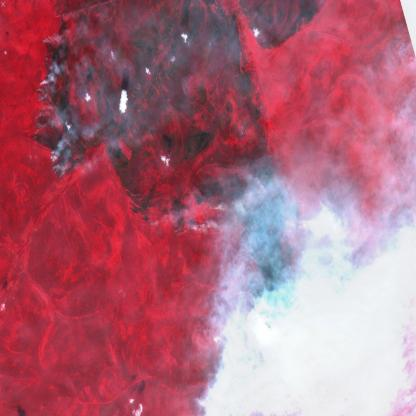fire: (149, 191, 242, 244), (40, 131, 82, 194), (31, 35, 63, 106)
